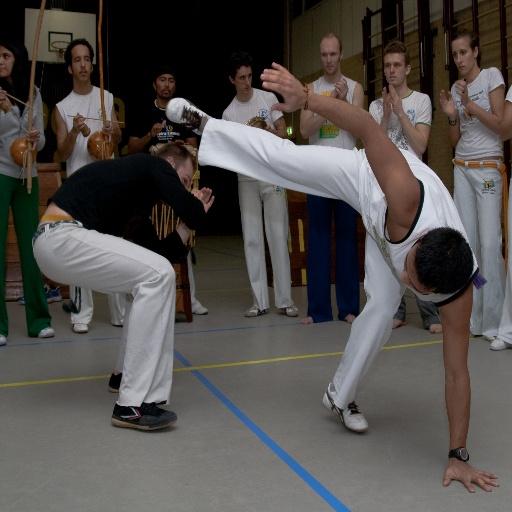hand: (261, 58, 315, 112), (442, 462, 498, 493), (439, 88, 456, 119), (23, 125, 40, 151), (389, 84, 403, 114), (456, 78, 471, 106), (200, 186, 214, 214), (380, 85, 391, 120), (100, 120, 115, 145), (333, 78, 349, 100), (72, 111, 86, 132), (148, 121, 166, 137), (167, 140, 192, 147), (192, 188, 202, 201), (0, 88, 7, 106), (329, 87, 338, 99), (265, 125, 273, 134)
